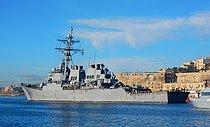MIL_Ship: (19, 26, 191, 105)
